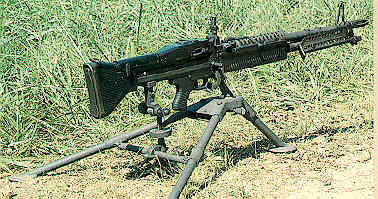rifle: (18, 15, 366, 189)
